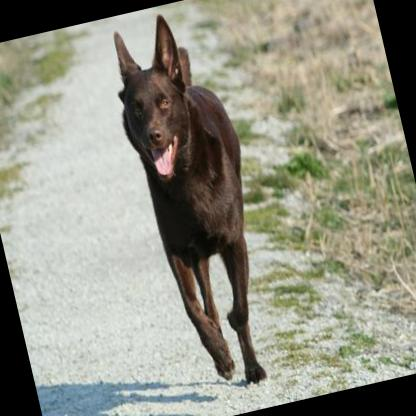kelpie: (90, 0, 300, 413)
